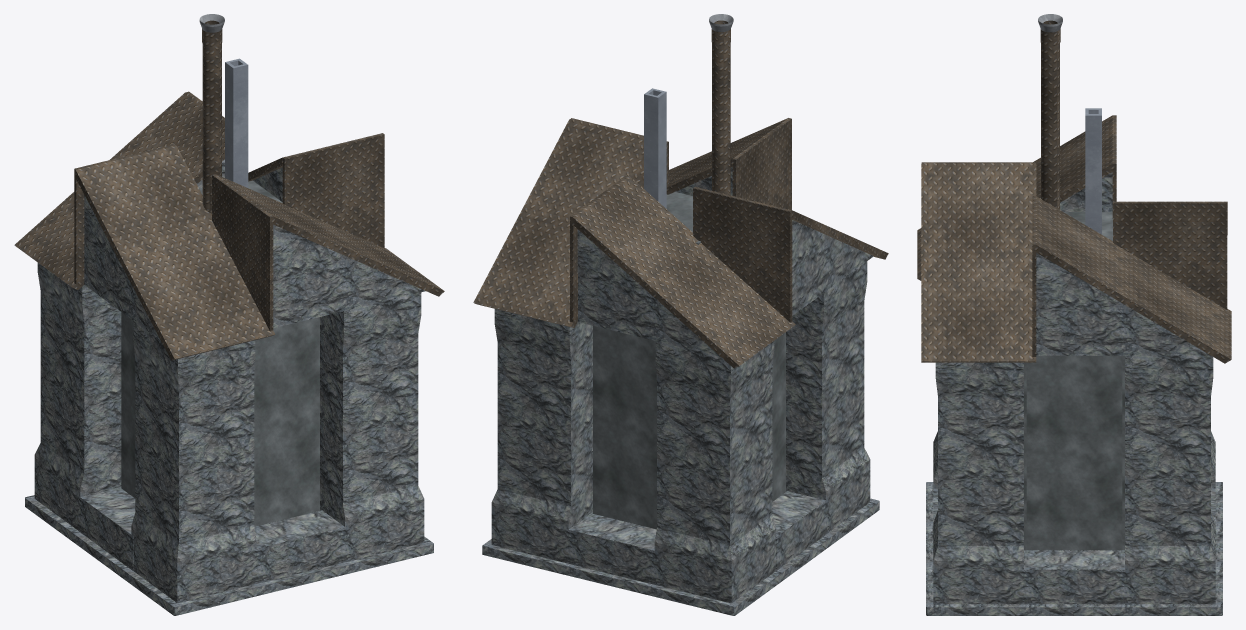
File: furnace_V2.fbx
3 views of the same model, side by side, from view 1: azimuth 30°, elevation 25°; view 2: azimuth 150°, elevation 25°; view 3: azimuth 270°, elevation 25° (orthographic). The views are drawn at different scales.
Visible parts, largest first — view 1: mergedBlocks; view 2: mergedBlocks; view 3: mergedBlocks.
Boxes of the visible parts, bbox=[...] form: mergedBlocks: bbox=[14, 14, 444, 615]; mergedBlocks: bbox=[473, 14, 888, 615]; mergedBlocks: bbox=[917, 14, 1231, 615].
Bounding box in the file's own units: 32.83 × 59.9 × 32.83.
8 materials, 7 textured.
